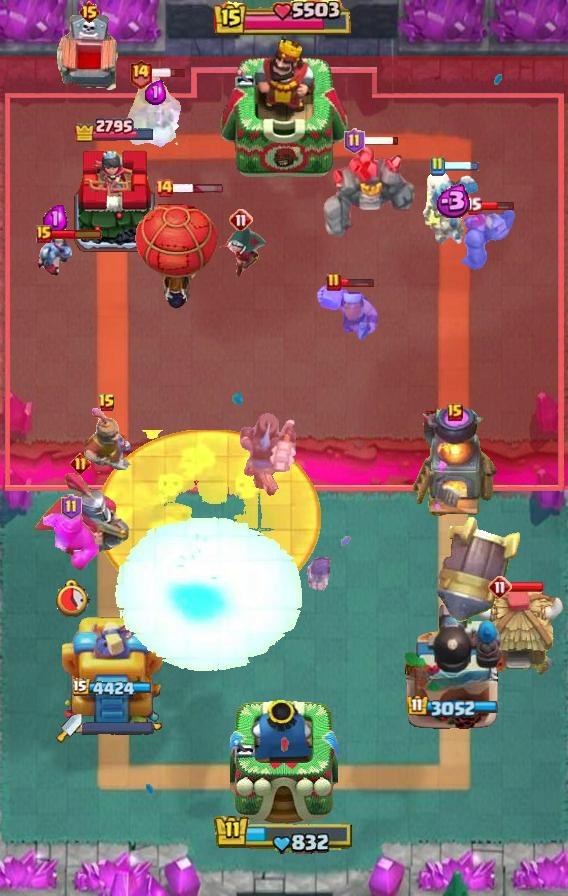bar: (62, 611, 166, 731)
barbarian-hut: (115, 70, 195, 150)
cannon-cart: (133, 191, 219, 309)
cannoneer-tower: (319, 142, 417, 244)
clock: (214, 814, 354, 855), (214, 0, 354, 38)
earthquake: (83, 406, 131, 470)
electro-spirit: (432, 184, 473, 218), (44, 203, 69, 234), (146, 80, 167, 105)
elixir: (54, 579, 91, 618)
elixir-golem-mid: (54, 13, 124, 99)
emote: (50, 228, 103, 240), (172, 182, 224, 193), (150, 67, 187, 79), (363, 134, 400, 146), (443, 160, 480, 172), (509, 581, 545, 593), (341, 276, 376, 288), (479, 201, 515, 212)
goblin: (304, 557, 335, 595)
hunter: (411, 409, 499, 519)
inferno-dragon: (239, 410, 299, 500)
king-tower: (218, 37, 350, 181), (230, 698, 338, 826)
king-tower-bar: (82, 721, 154, 735)
mega-knight: (109, 513, 306, 674)
mighty-miner: (316, 279, 380, 343)
mini-pekka: (420, 167, 482, 249)
phoenix-egg: (97, 429, 322, 607)
prince: (470, 588, 564, 678)
queen-tower: (71, 144, 157, 255)
royal-delivery: (35, 233, 75, 277)
selected: (407, 694, 499, 718), (72, 116, 155, 142), (72, 677, 155, 699)
tesla: (214, 225, 268, 279)
text: (128, 58, 153, 89), (229, 208, 253, 232), (488, 575, 512, 599), (79, 0, 102, 24), (343, 128, 364, 154), (62, 494, 83, 520), (69, 453, 91, 475), (154, 178, 174, 198), (98, 393, 116, 413), (465, 197, 483, 216), (429, 156, 445, 176), (326, 272, 342, 292), (36, 225, 52, 243), (447, 403, 463, 421)
tornado: (43, 513, 99, 571)
tower-bar: (403, 601, 503, 731)
valkyrie-evolution: (448, 205, 518, 271)
wall-breaker-evolution: (31, 472, 129, 554)
x-bow: (437, 515, 521, 622)
